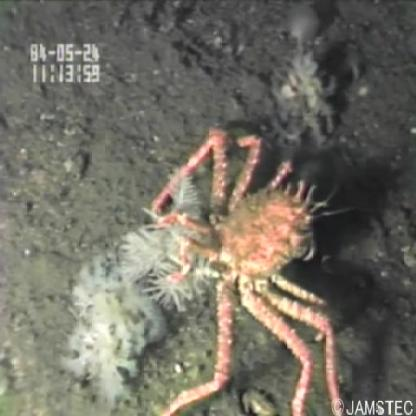Bio: (117, 115, 347, 416)
